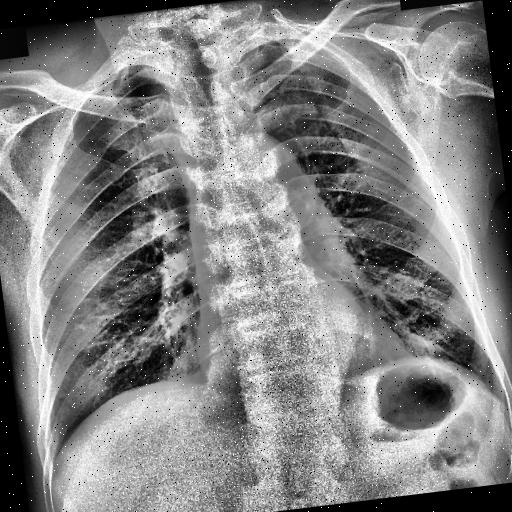0- Aortic enlargement: (200, 125, 322, 237), (222, 123, 336, 238), (211, 127, 286, 196)
9- Other lesion: (270, 134, 320, 230)
